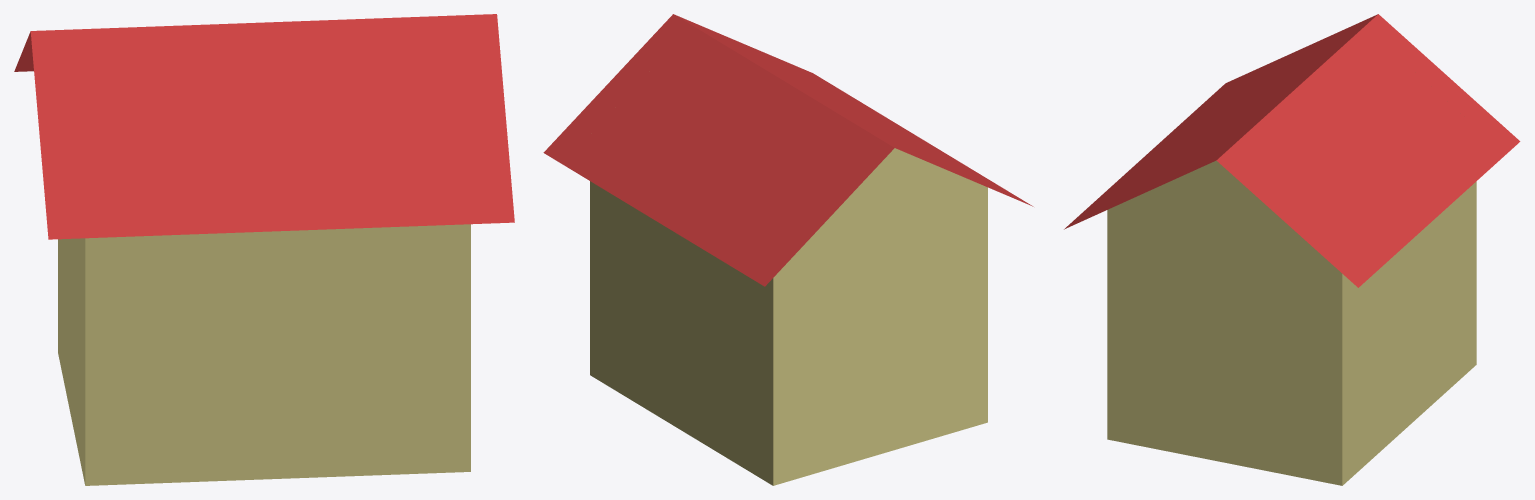
The picture shows the model from 3 angles, left to right: view 1: azimuth 30°, elevation 25°; view 2: azimuth 150°, elevation 25°; view 3: azimuth 270°, elevation 25°; orthographic projection. The views are drawn at different scales.
Bounding box in the file's own units: 14.65 × 13.82 × 10.54.
